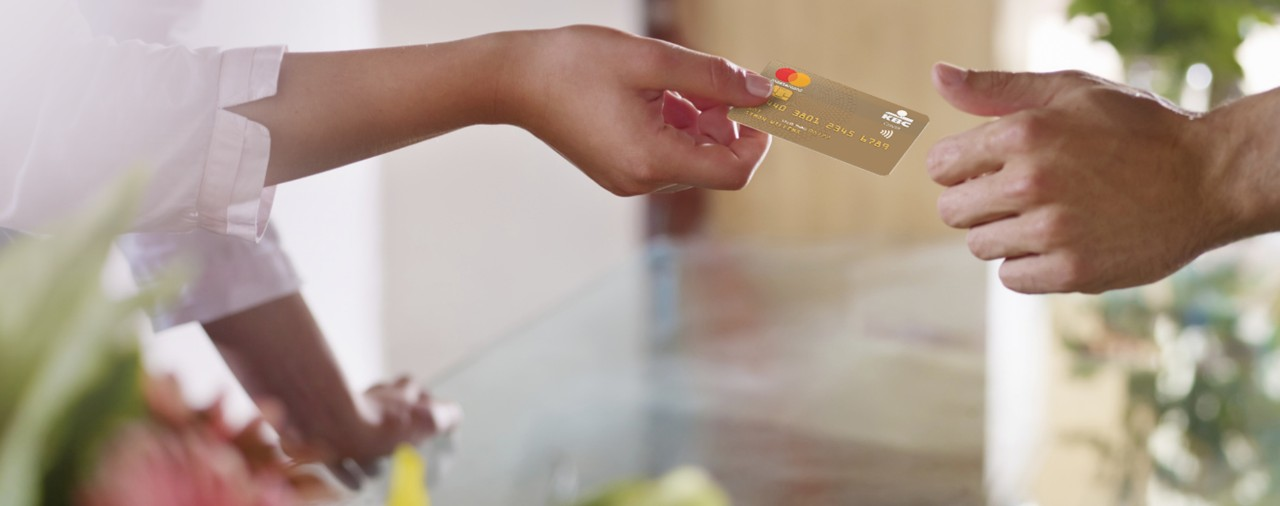tarjeta: (722, 58, 933, 180)
